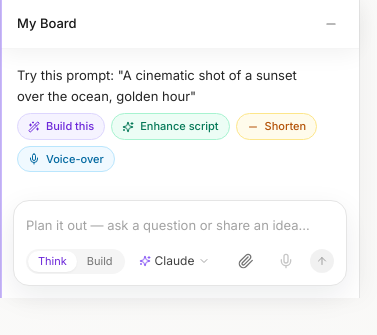
Test case: ChatPanel think/build modes › renders a "Build this" button under a Think-mode assistant message that contains a quoted suggestion, and clicking it switches to Build
Step 1. Click the button with test id "button-build-this-a1" → (61, 127), box [17,113,105,140]
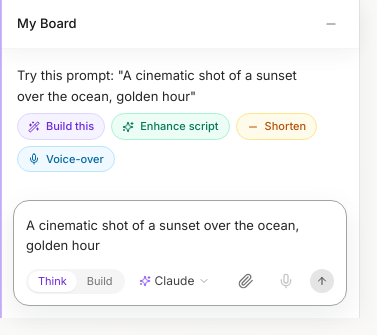
Expected: the text box with test id "input-chat" holds "A cinematic shot of a sunset over the ocean, golden hour", [26,213,334,257]
